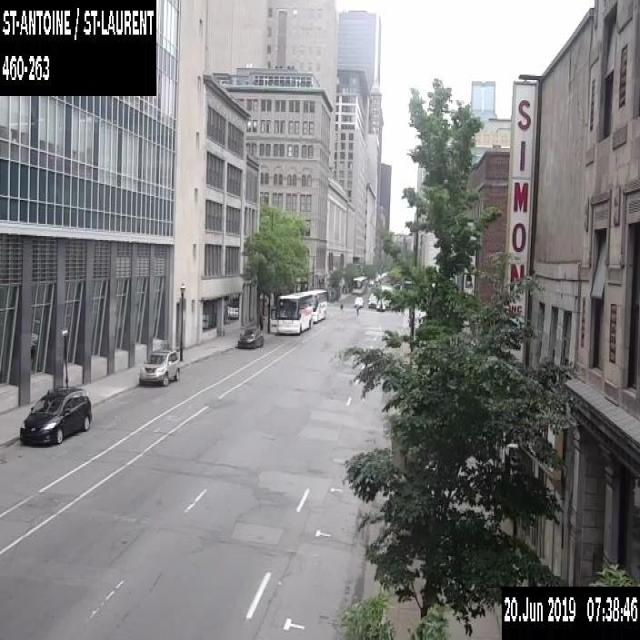bus: (269, 292, 312, 333), (296, 287, 327, 322), (351, 275, 367, 293)
pedestrian: (355, 303, 359, 315), (339, 302, 343, 314)
vehicle: (19, 384, 91, 446), (138, 347, 179, 386), (237, 327, 263, 348), (354, 295, 363, 306), (376, 300, 385, 310), (368, 292, 377, 301), (367, 298, 376, 307)
